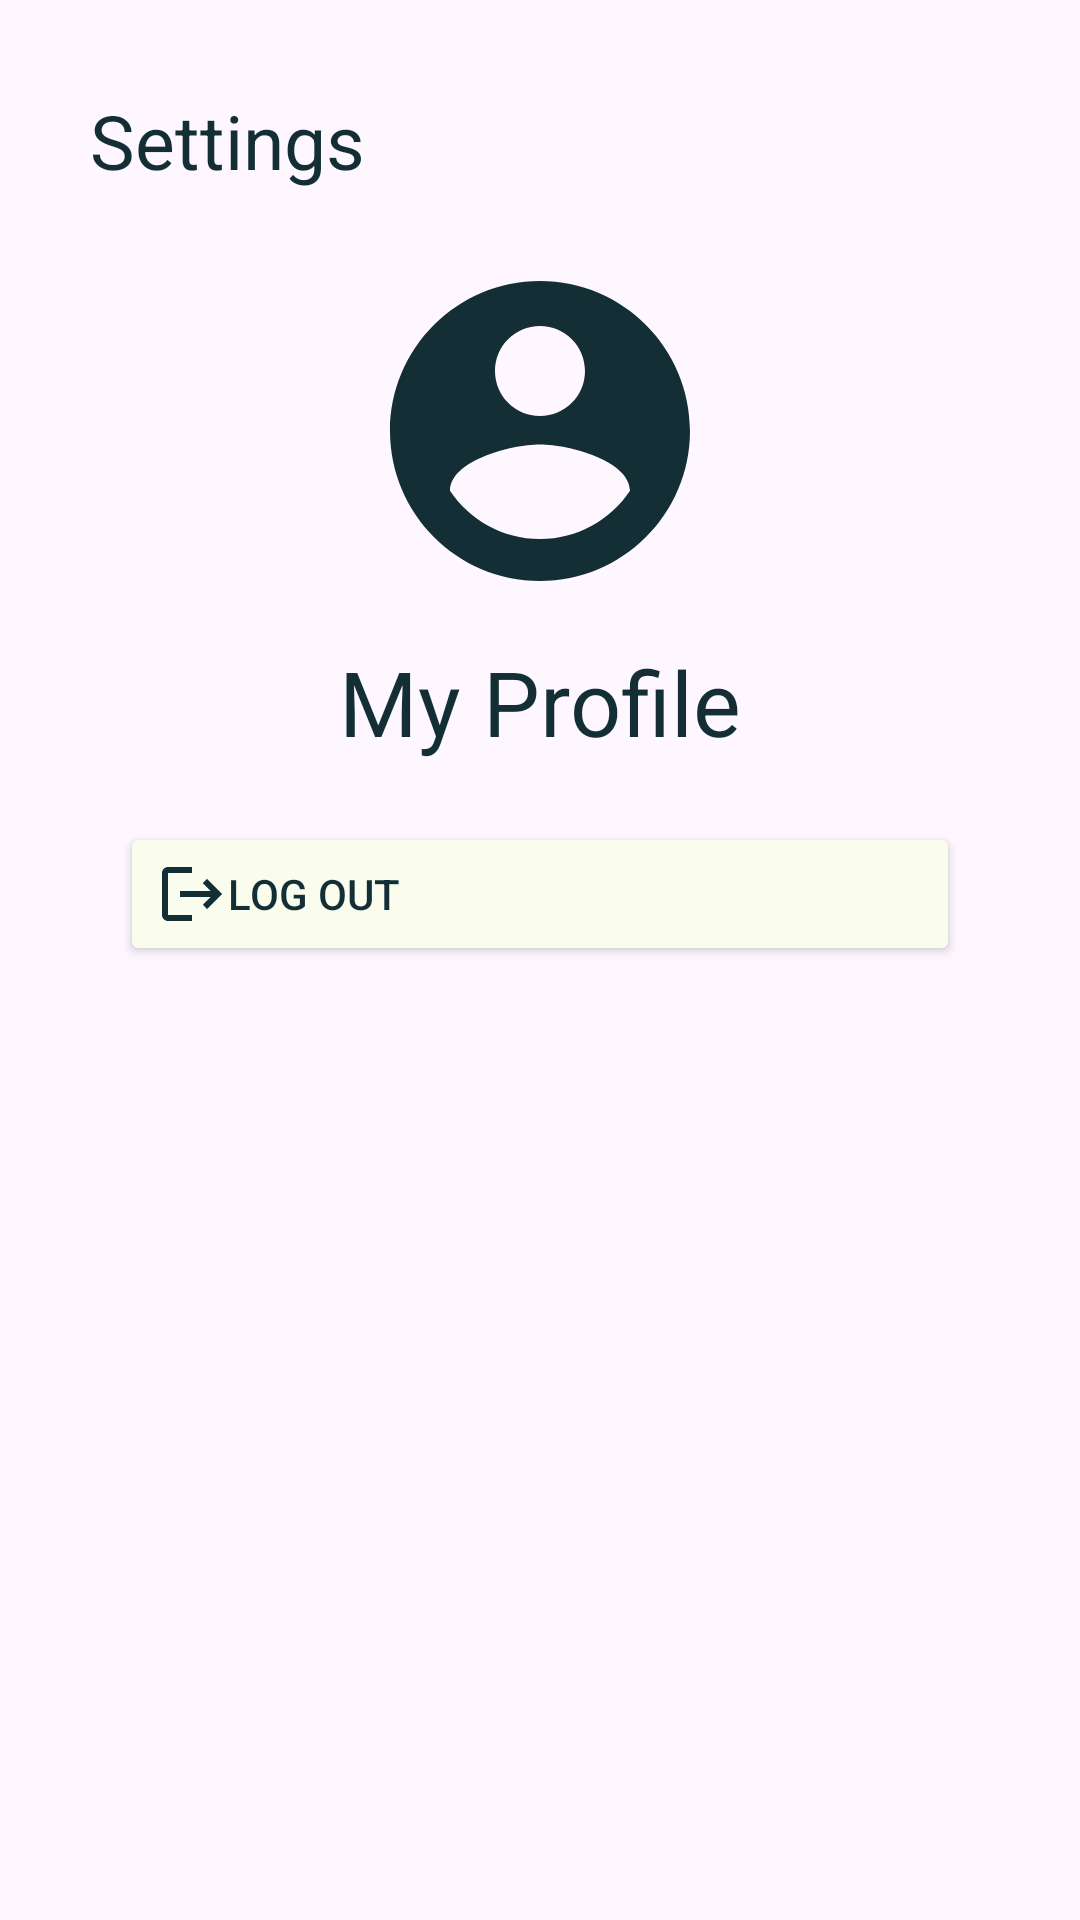

Icons on this 1080px×1920px Android screen, each with the point to tap as point (x, y):
account circle: point (540, 431)
